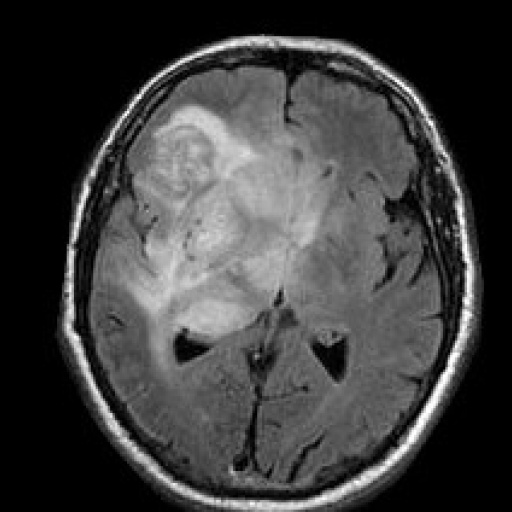tumor: (151, 119, 217, 202), (182, 193, 250, 271)
